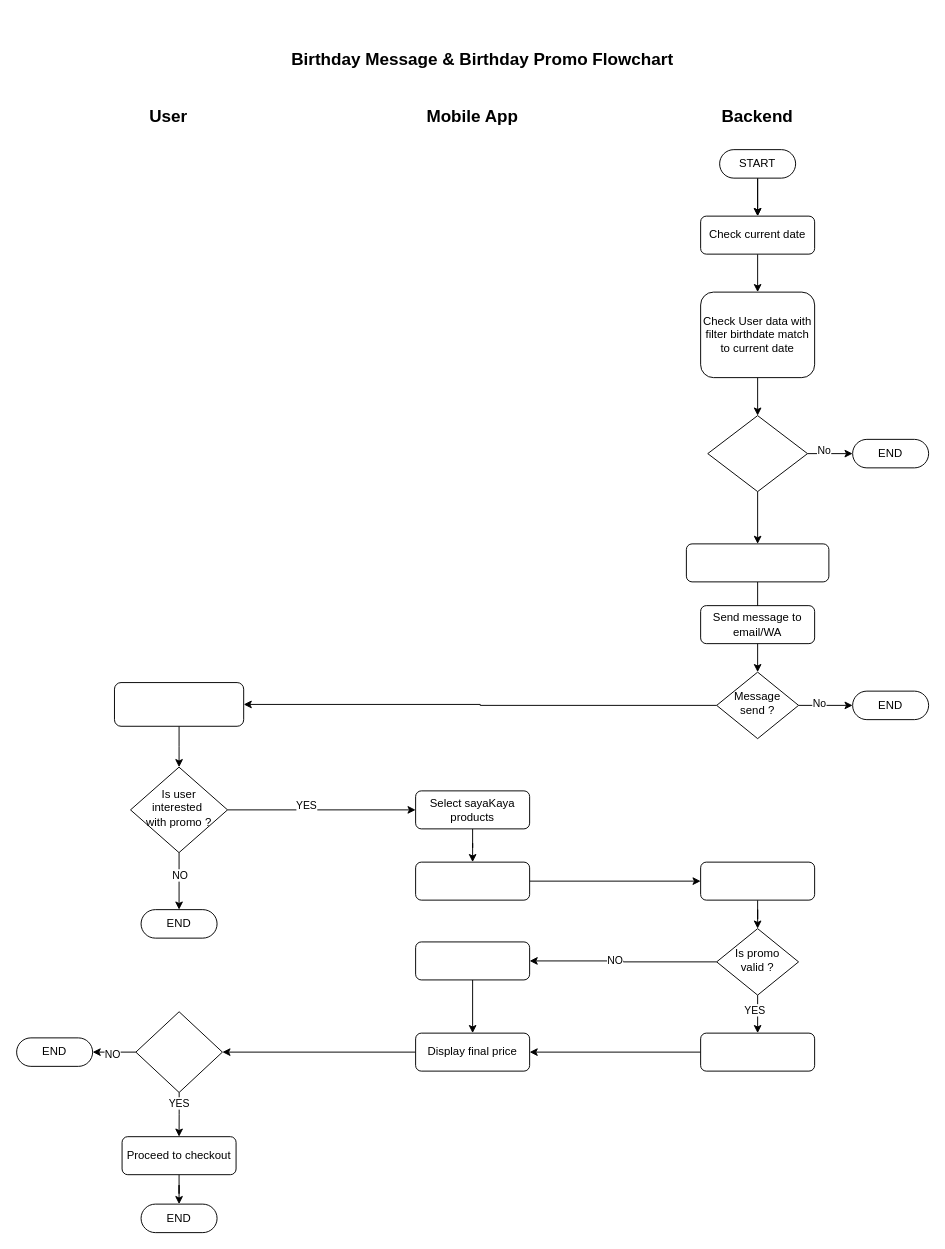
Image size: 945x1249. Some labels were removed from this diagram. Each missing label, with the box of its shape:
Apply promo code: (415, 861, 530, 900)
Calculate total price with promo: (700, 1032, 815, 1071)
Generate HBD message & promo code: (685, 543, 829, 582)
Get a list user (today birthdate): (707, 415, 808, 492)
Is user satisfied with final price ?: (135, 1011, 222, 1092)
Promo cannot applied: (415, 941, 530, 980)
Retreive birthday message and promo code via email/WA: (114, 682, 244, 726)
Validate promo code: (700, 861, 815, 900)
